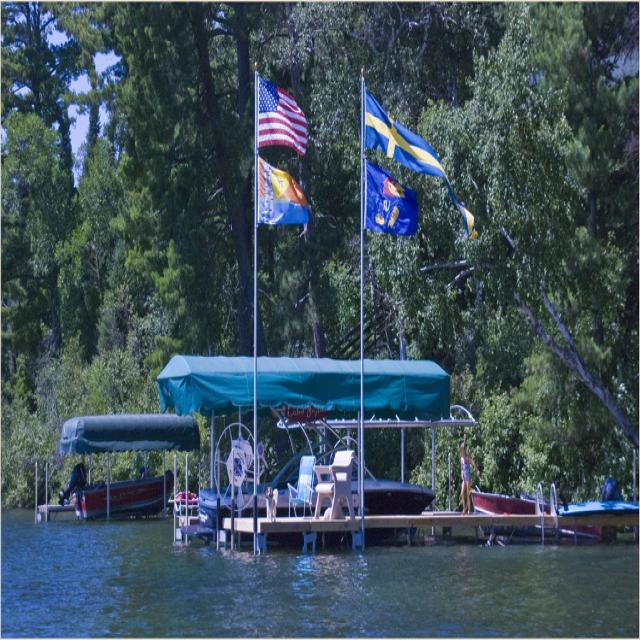Boat: (463, 488, 555, 518)
